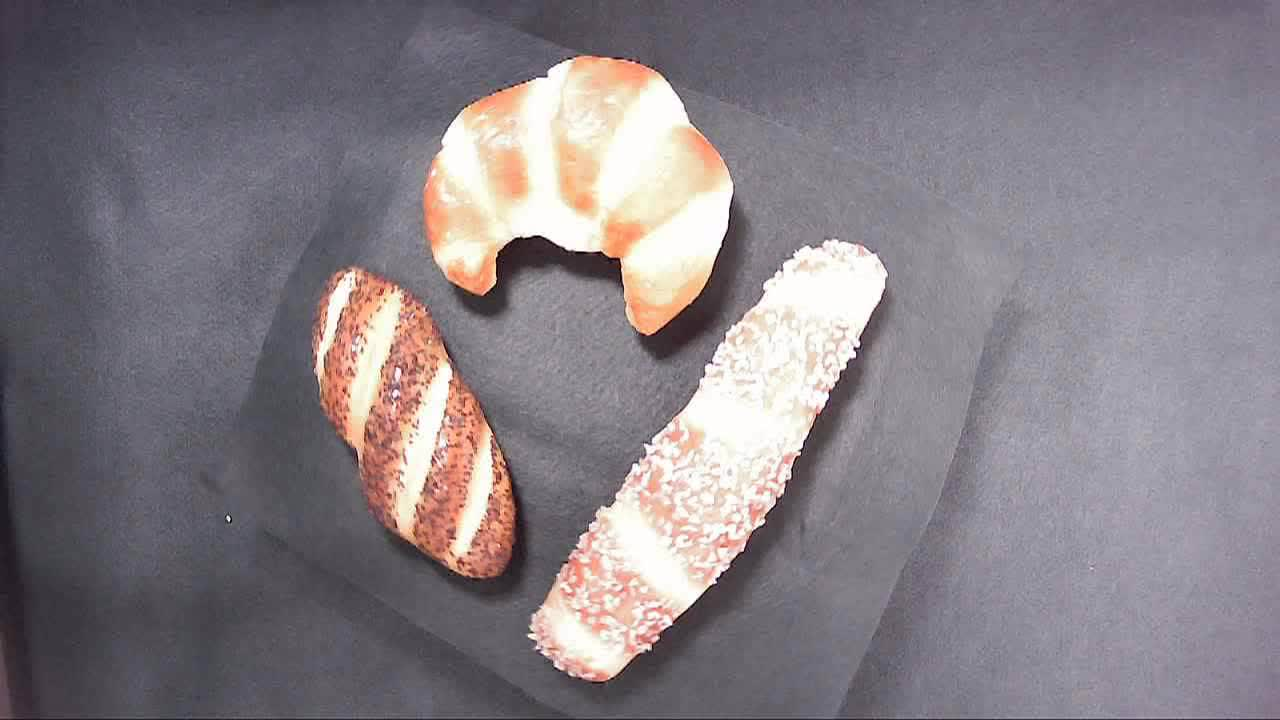cow: (418, 66, 763, 289), (451, 41, 708, 339), (517, 11, 741, 268)
long: (529, 402, 765, 689), (737, 234, 890, 547), (653, 339, 864, 557)
slash: (304, 300, 522, 593), (308, 259, 431, 566)
